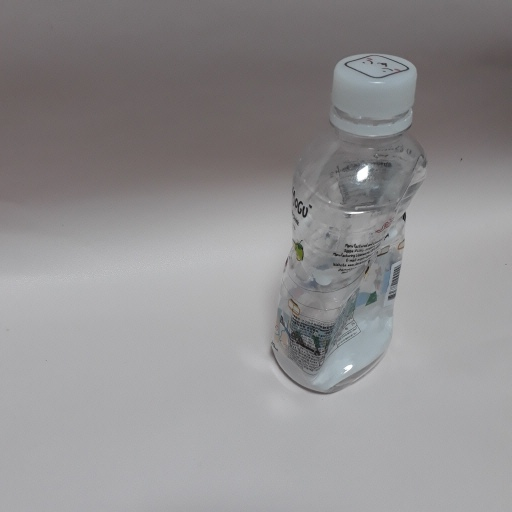Plastic_0: (273, 52, 428, 394)
